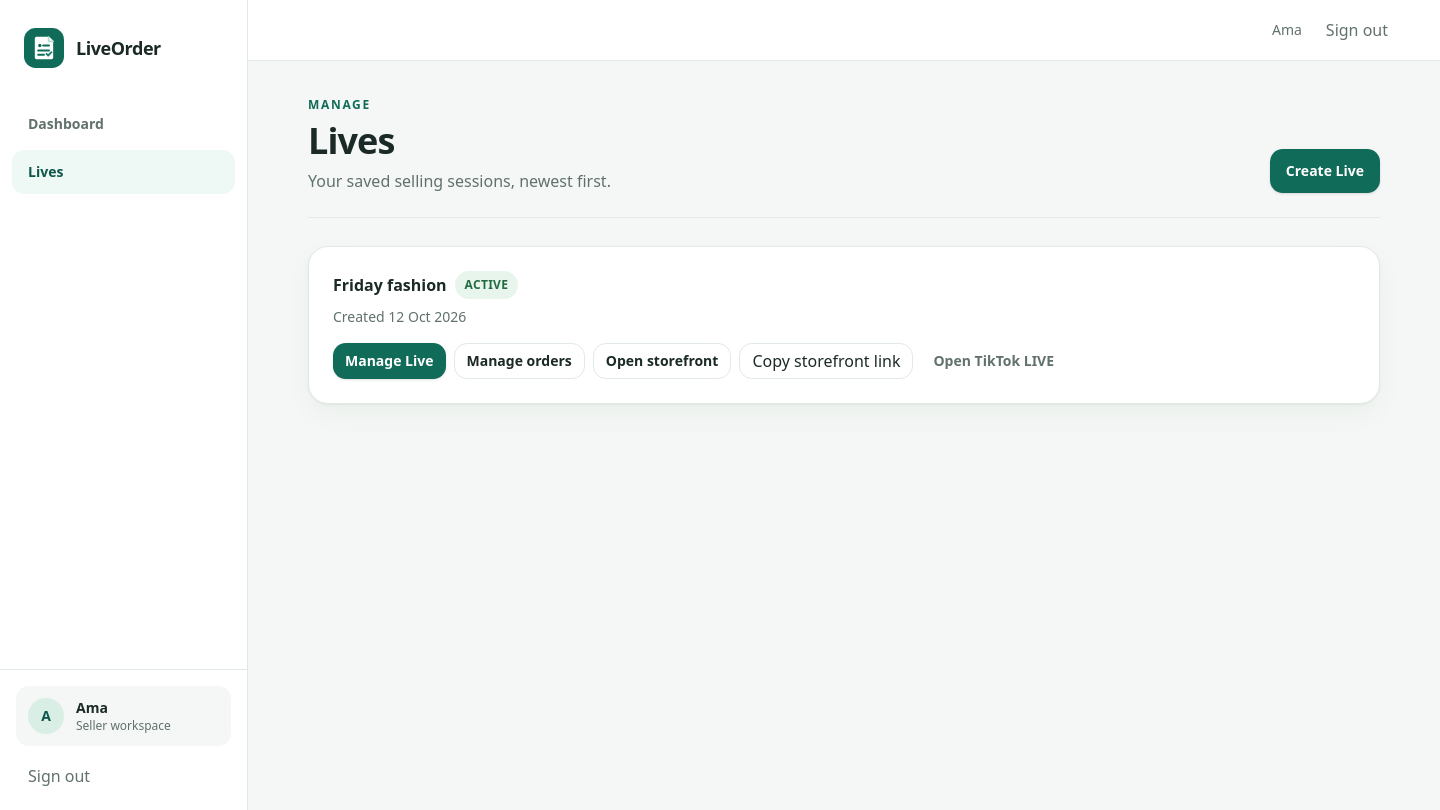
Test: seller Live management › shows storefront and TikTok actions and reports clipboard success
Click the button "Copy storefront link" at (826, 361), box [739,343,914,379]
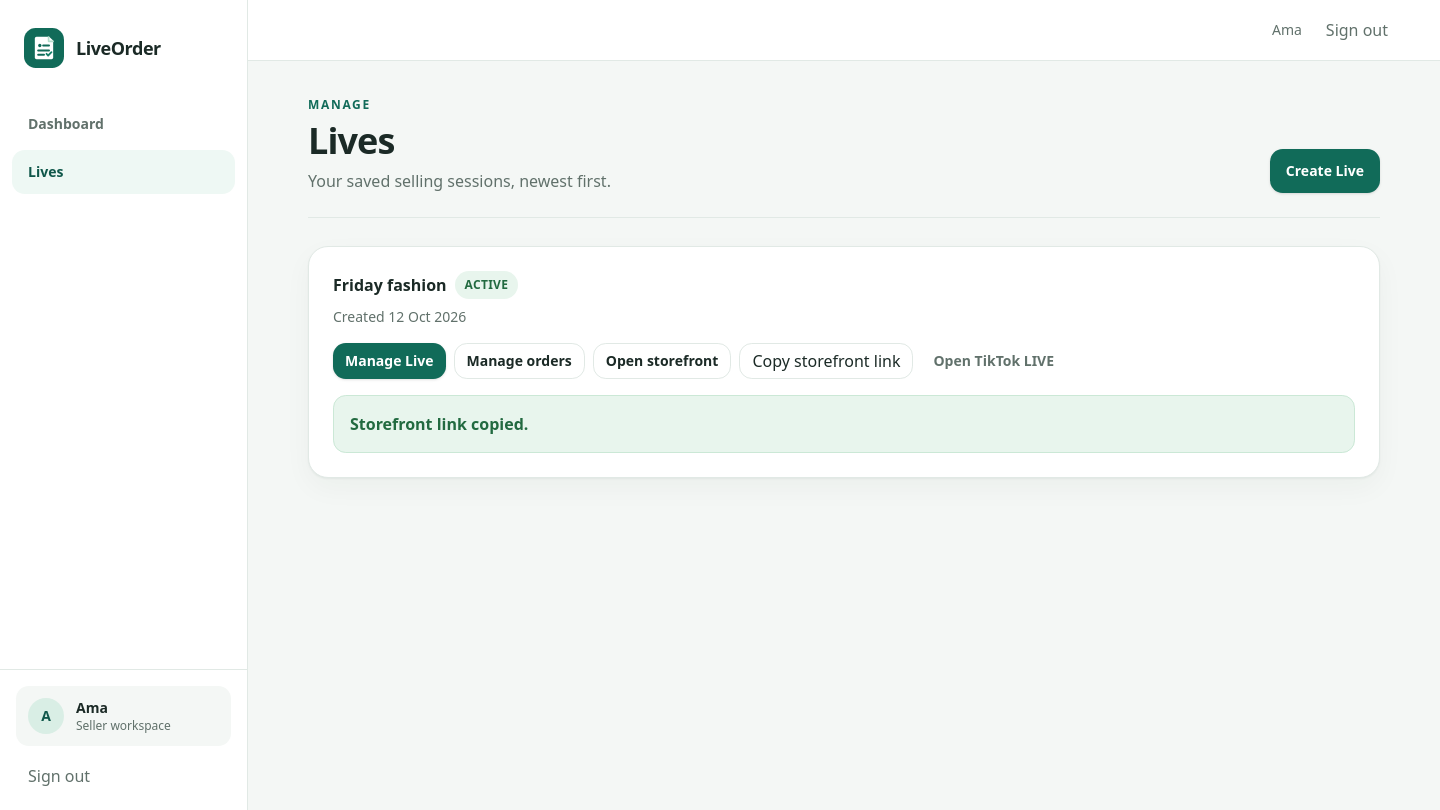
Check: the text "Storefront link copied." is shown, box [350,413,528,435]
